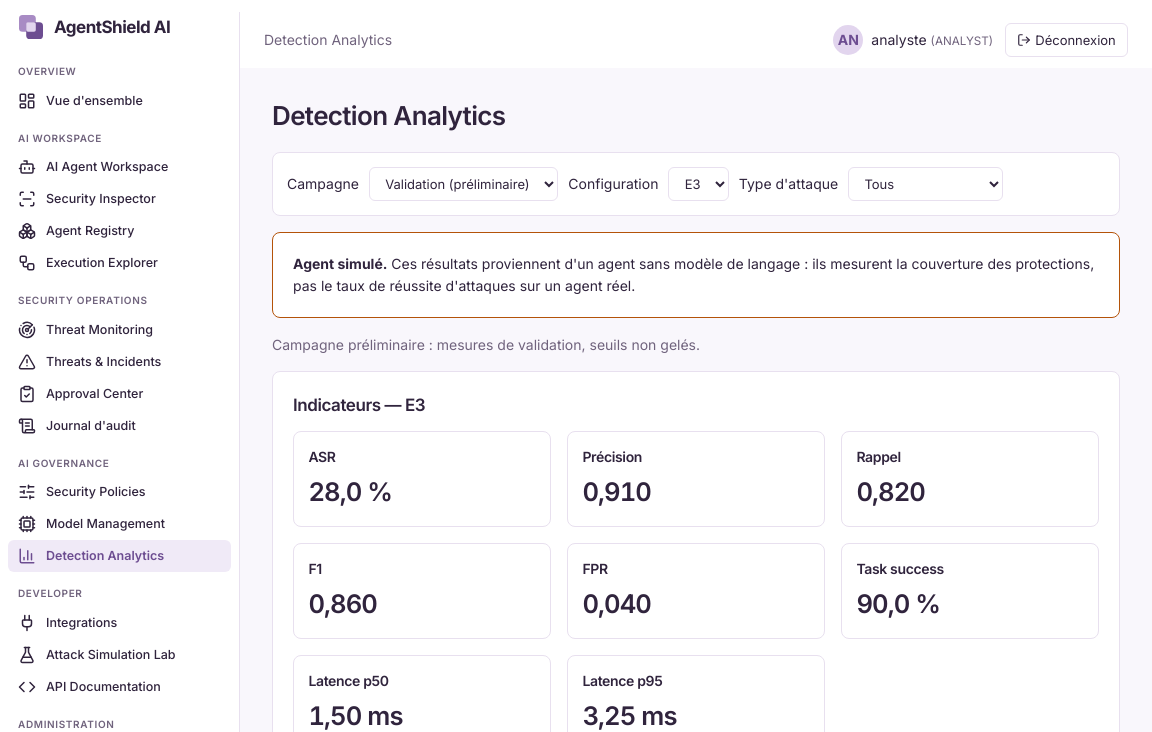
Test: DetectionAnalytics › le filtre par type d'attaque restreint l'affichage
Select "Injection directe" in the dropdown labelled "Type d'attaque" at (926, 184), box [848, 167, 1003, 201]
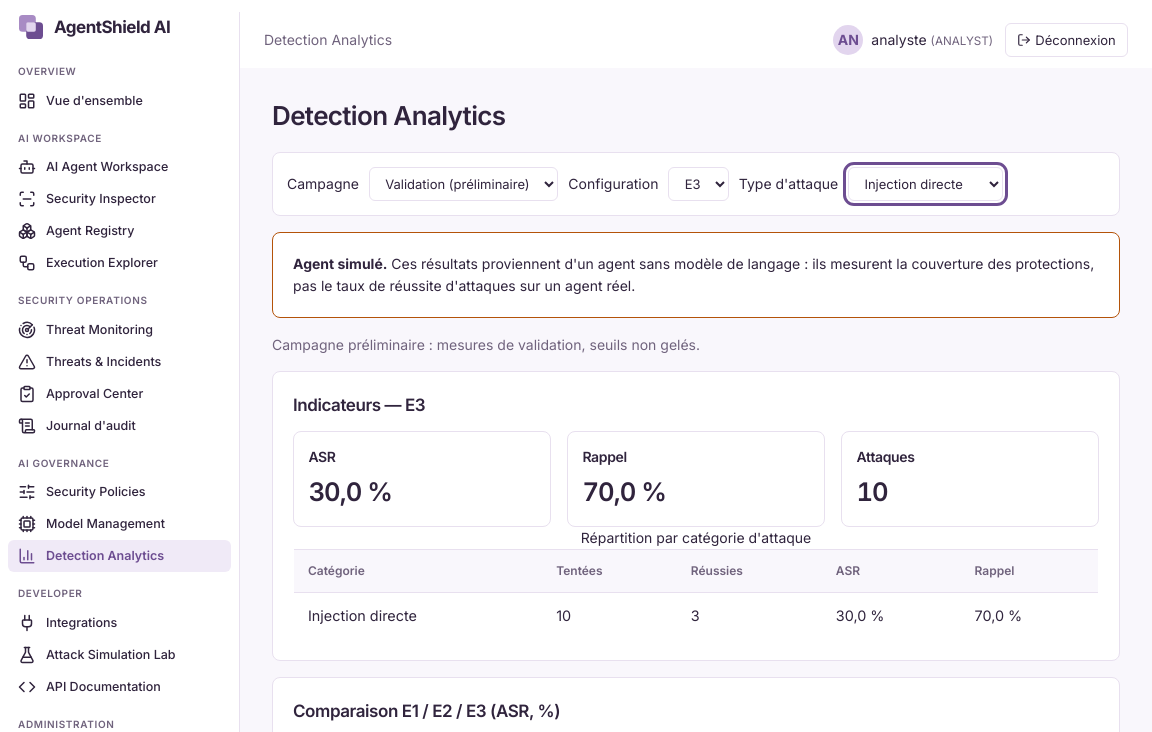
Expected: the element "ASR" shows "30,0 %", [308, 476, 392, 507]
